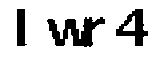4: (114, 7, 151, 51)
l: (12, 2, 31, 51)
r: (84, 13, 107, 48)
w: (44, 15, 85, 51)
